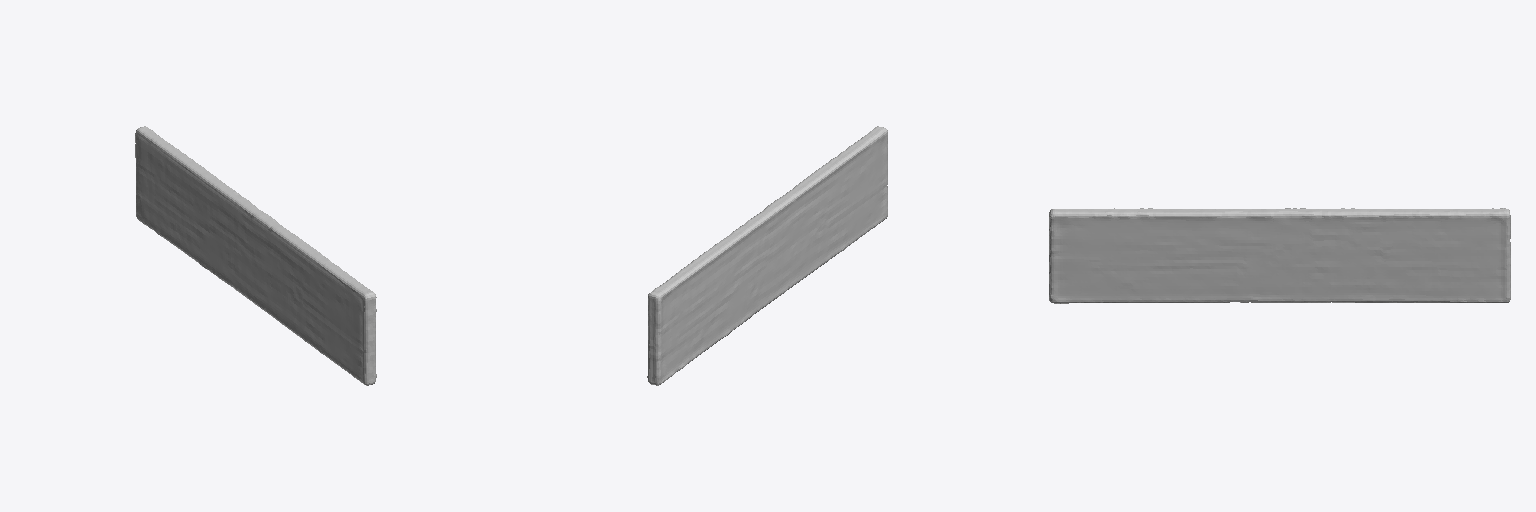
The model's file is wood_plank.obj.
3 views of the same model, side by side, from view 1: azimuth 30°, elevation 25°; view 2: azimuth 150°, elevation 25°; view 3: azimuth 270°, elevation 25° (orthographic).
Visible parts, largest first — view 1: mesh; view 2: mesh; view 3: mesh.
Boxes of the visible parts, x1,y1,x2,y2 form: mesh: [135, 126, 376, 385]; mesh: [647, 126, 887, 385]; mesh: [1049, 208, 1510, 303].
Size of the model in its own units: 0.033 by 0.2196 by 0.9993.